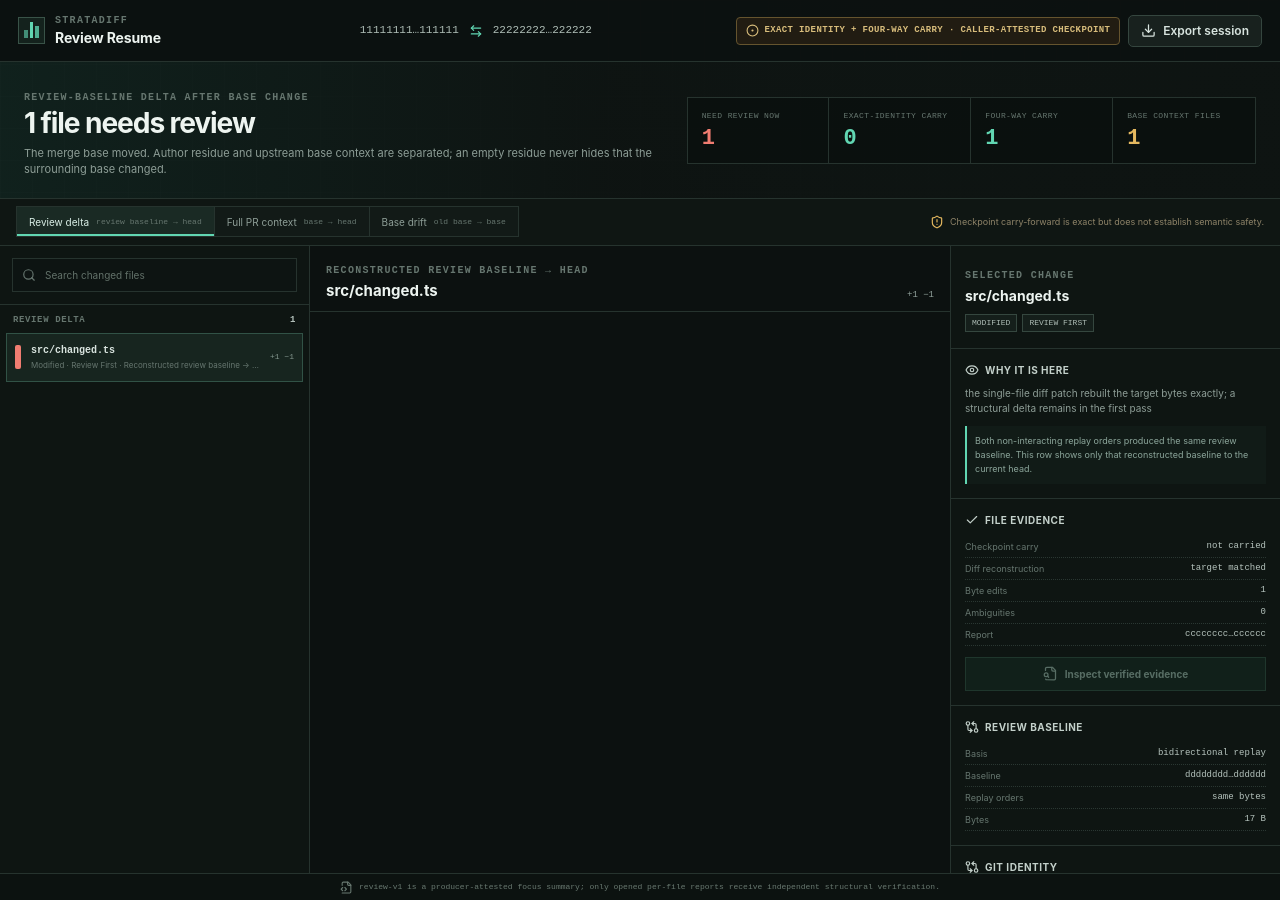
Test case: Evidence Workbench › explains the PR-relative fallback when the merge base changed
Expected: the heading "1 file needs review" is shown, 24,106 -> 255,140
Expected: the text "Author residue and upstream base context are separated" is shown, 24,146 -> 652,176
Click the button "Full PR context base → head".
click(292, 222)  # box 215,207 -> 370,236
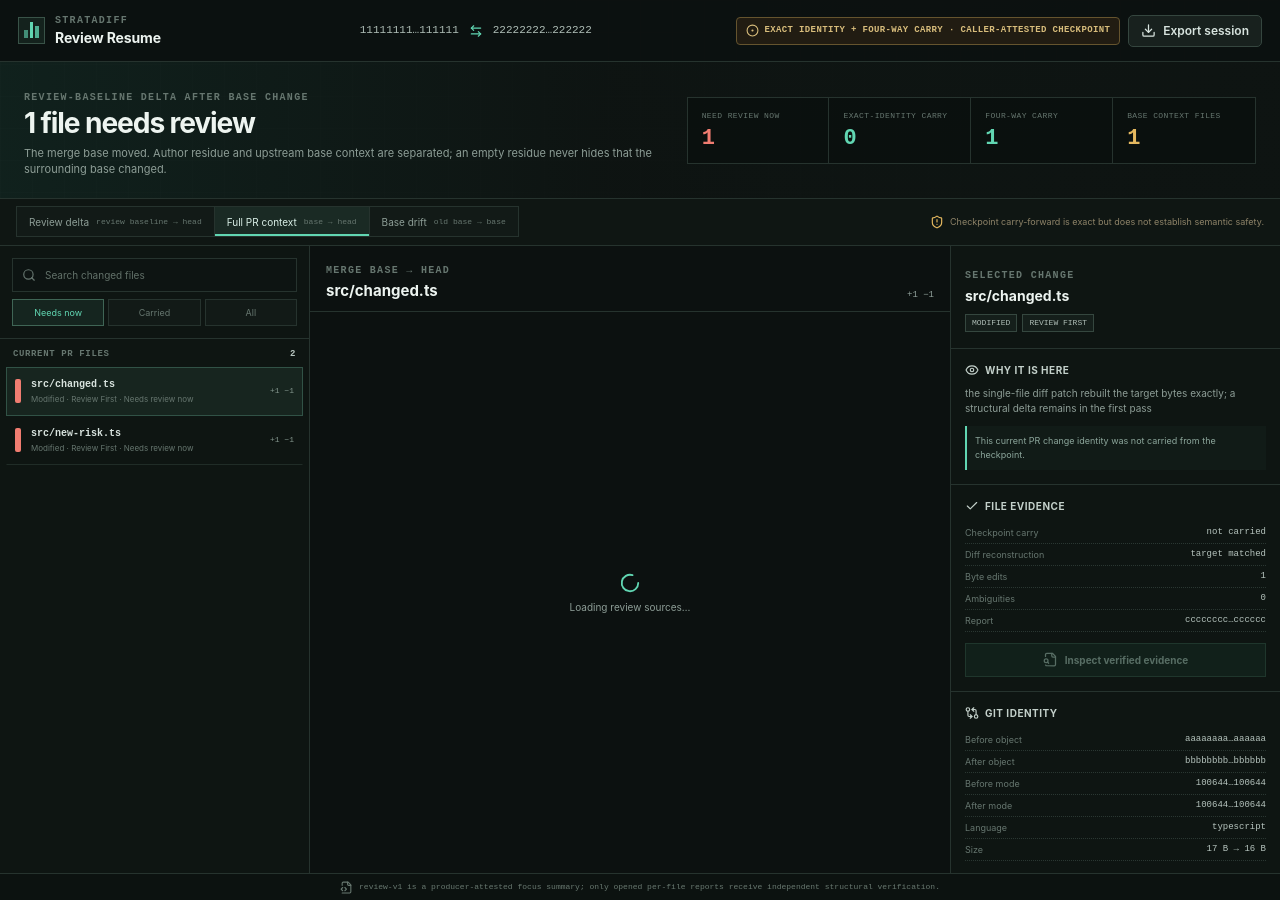
Click the button "Carried".
click(154, 312)  # box 108,299 -> 201,326
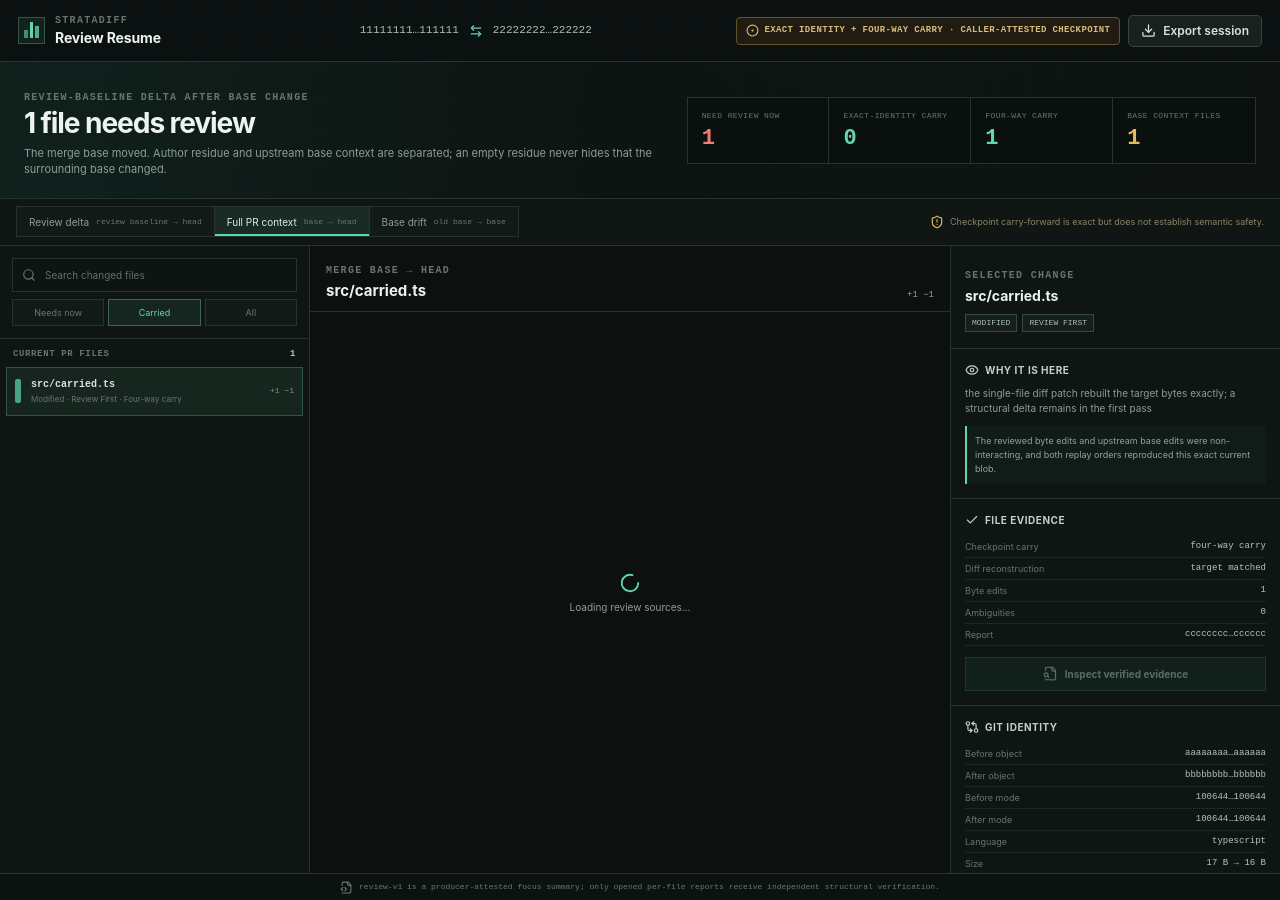
Expected: the 2nd text "1" is shown, 985,126 -> 998,151
Expected: the button that starts with "src/carried.ts" is shown, 6,367 -> 303,416
Click the button "Base drift old base → base".
click(444, 222)  # box 370,207 -> 518,236
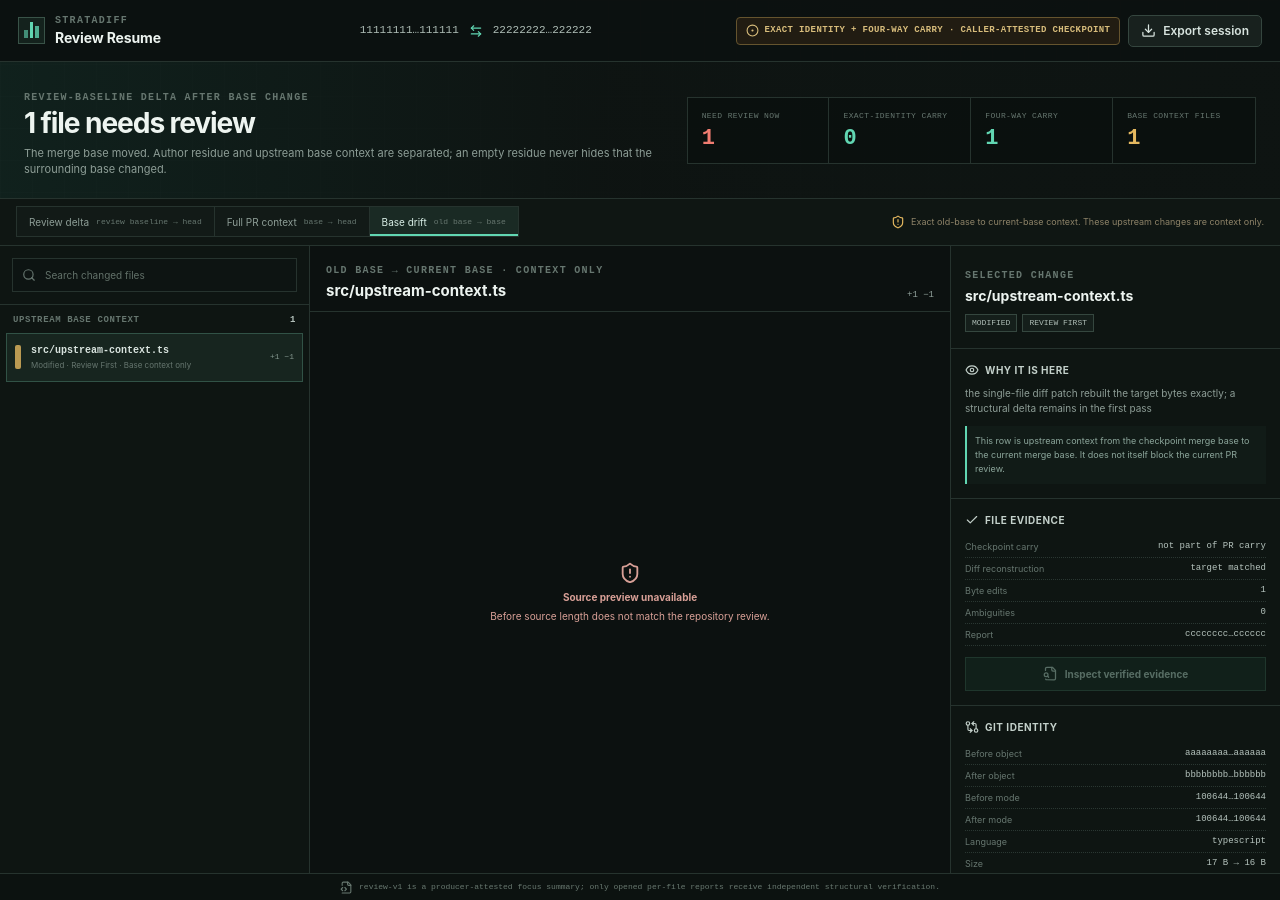
Expected: the text "src/upstream-context.ts" is shown, 31,345 -> 169,356
Expected: the text "OLD BASE → CURRENT BASE · CONTEXT ONLY" is shown, 326,265 -> 603,276
Expected: the text "does not itself block the current PR review" is shown, 975,435 -> 1250,474
